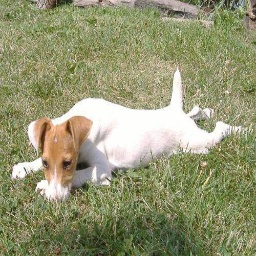dog: (11, 68, 230, 201)
